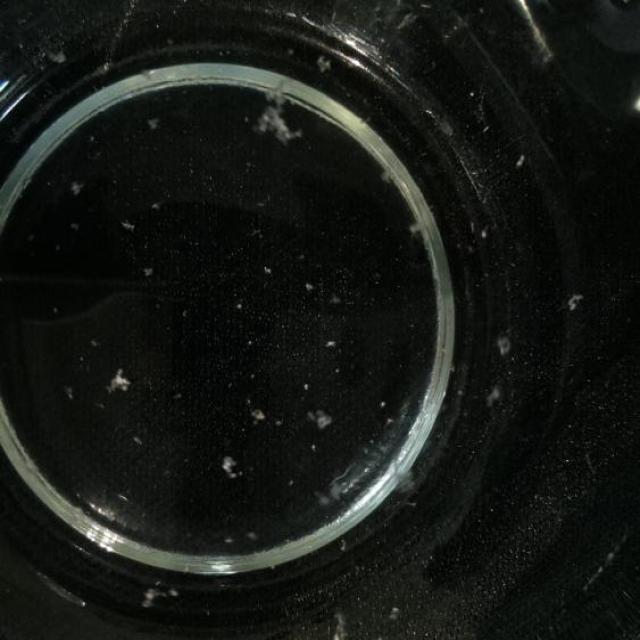fiber: (249, 72, 305, 143), (388, 450, 429, 500), (135, 574, 180, 610), (101, 360, 139, 393), (320, 604, 354, 639), (315, 402, 343, 441), (491, 318, 516, 358), (116, 208, 144, 240), (557, 291, 589, 318), (317, 334, 345, 362), (312, 44, 338, 72), (404, 213, 428, 243), (216, 453, 242, 480), (380, 596, 406, 623), (139, 255, 158, 288), (374, 155, 399, 176), (63, 167, 83, 193), (488, 372, 504, 404), (136, 112, 162, 131), (252, 402, 268, 429), (369, 628, 394, 639)
